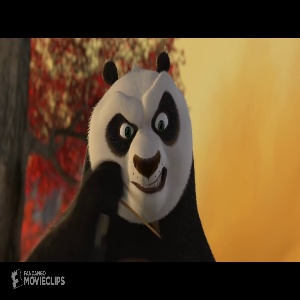po: (26, 49, 218, 261)
